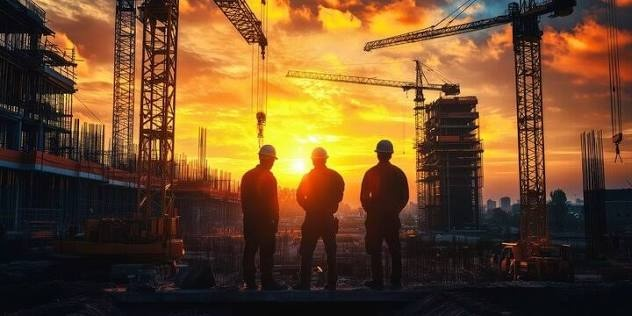crane: (360, 5, 626, 297), (133, 2, 275, 285), (283, 49, 463, 252)
hardhat: (253, 144, 282, 165), (372, 138, 402, 156), (307, 147, 328, 162)
person: (357, 138, 414, 297), (237, 142, 292, 298), (296, 145, 343, 299)
